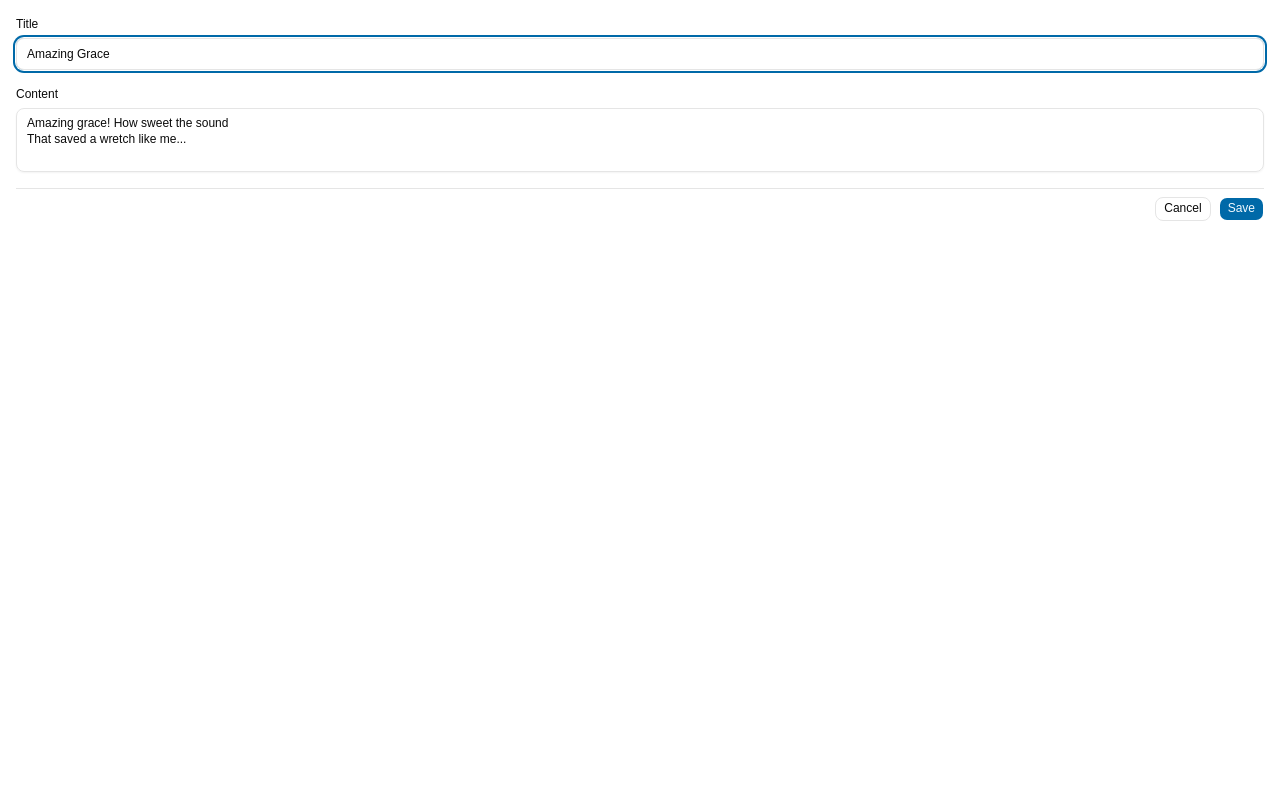
Test: PlaylistItemEditor › canceling the alert dialog keeps the editor open with dirty draft intact
This screenshot has width=1280, height=800.
Type " modified" into the field labelled "Title" at (640, 54), box [16,38,1264,70]
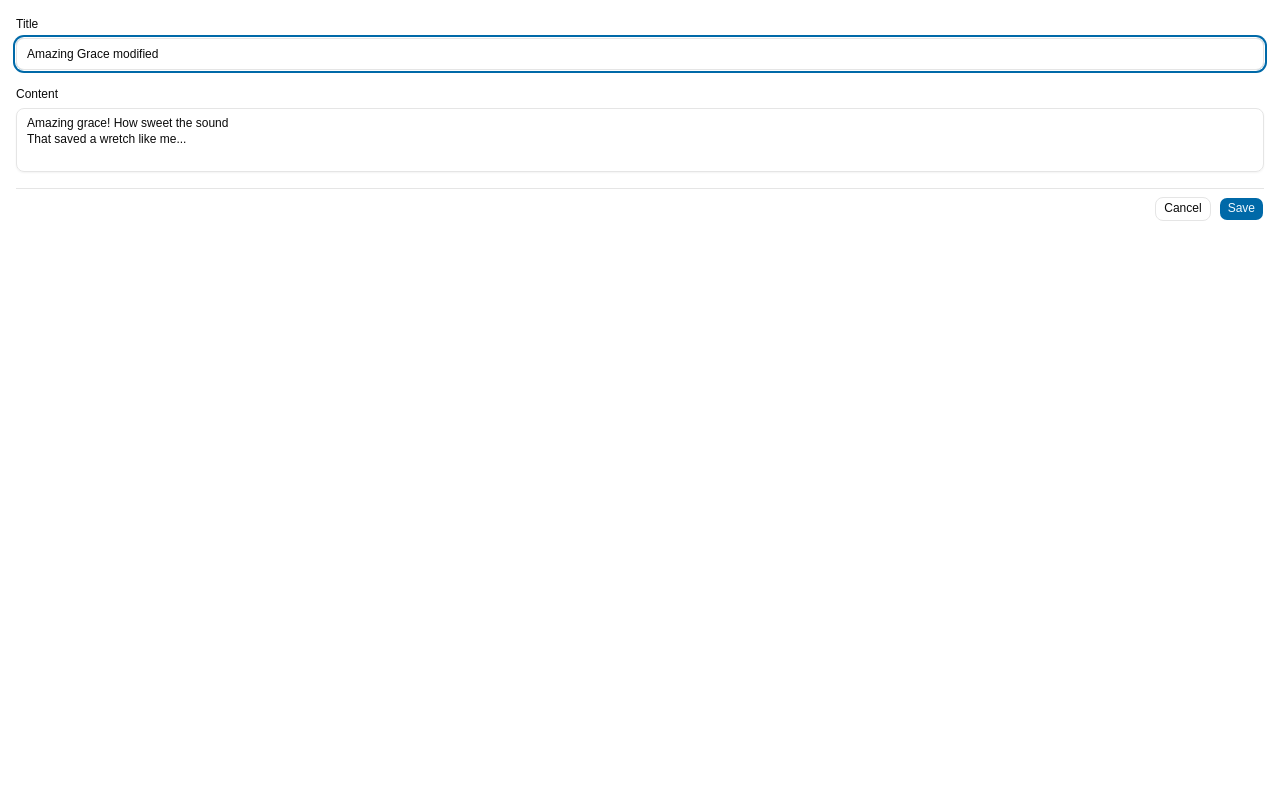
Click the button "Cancel" at (1183, 209), box [1155,197,1211,221]
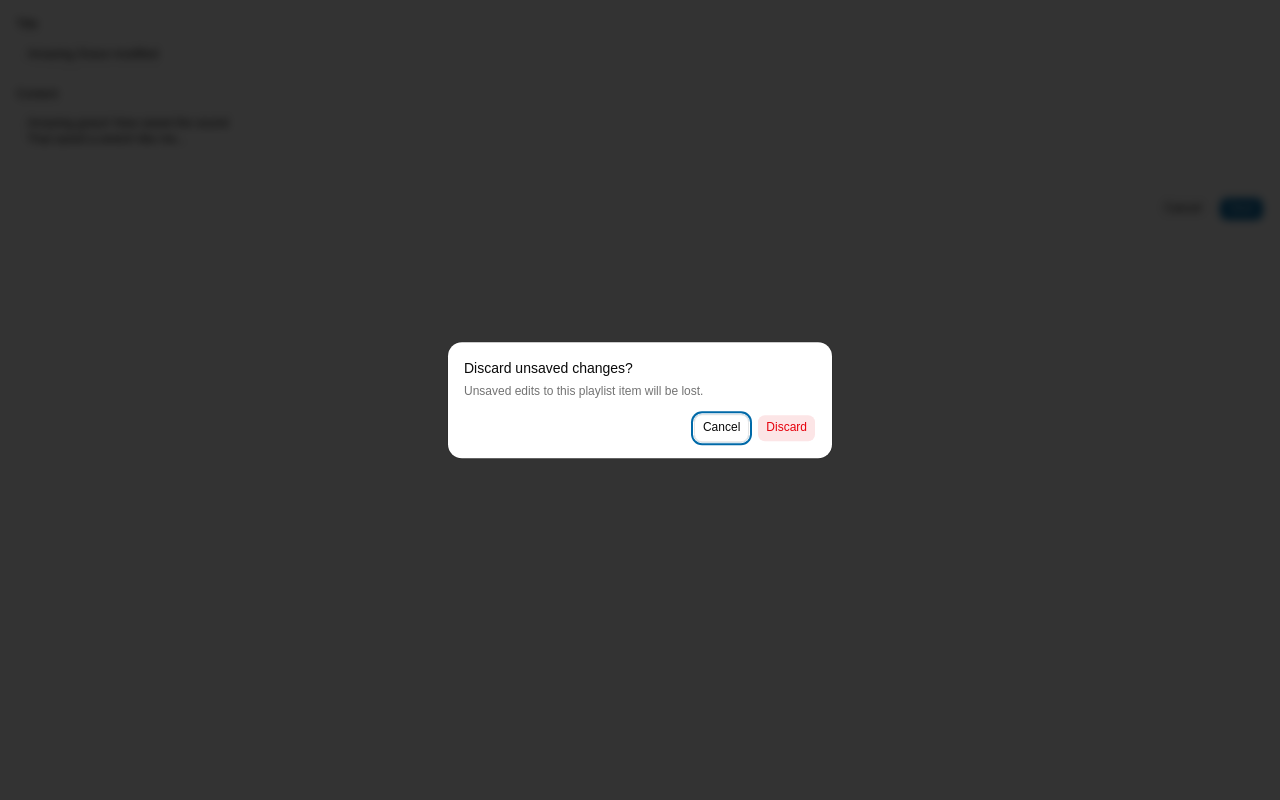
Expected: the dialog is shown, [448,342,832,458]
// Click the Cancel button inside the alertdialog
Click the button "Cancel" at (722, 428), box [694,414,749,442]
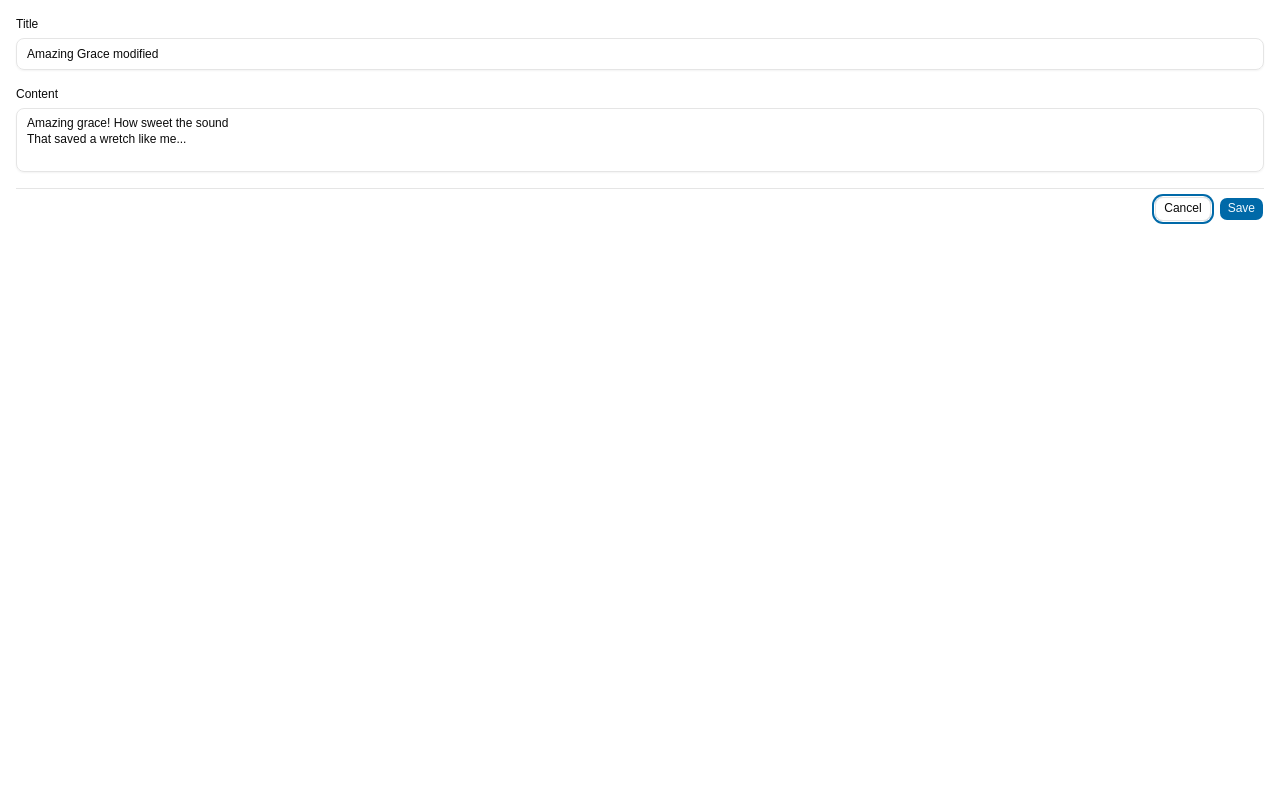
Expected: the field labelled "Title" holds "Amazing Grace modified", [16,38,1264,70]
Expected: the dialog is gone
